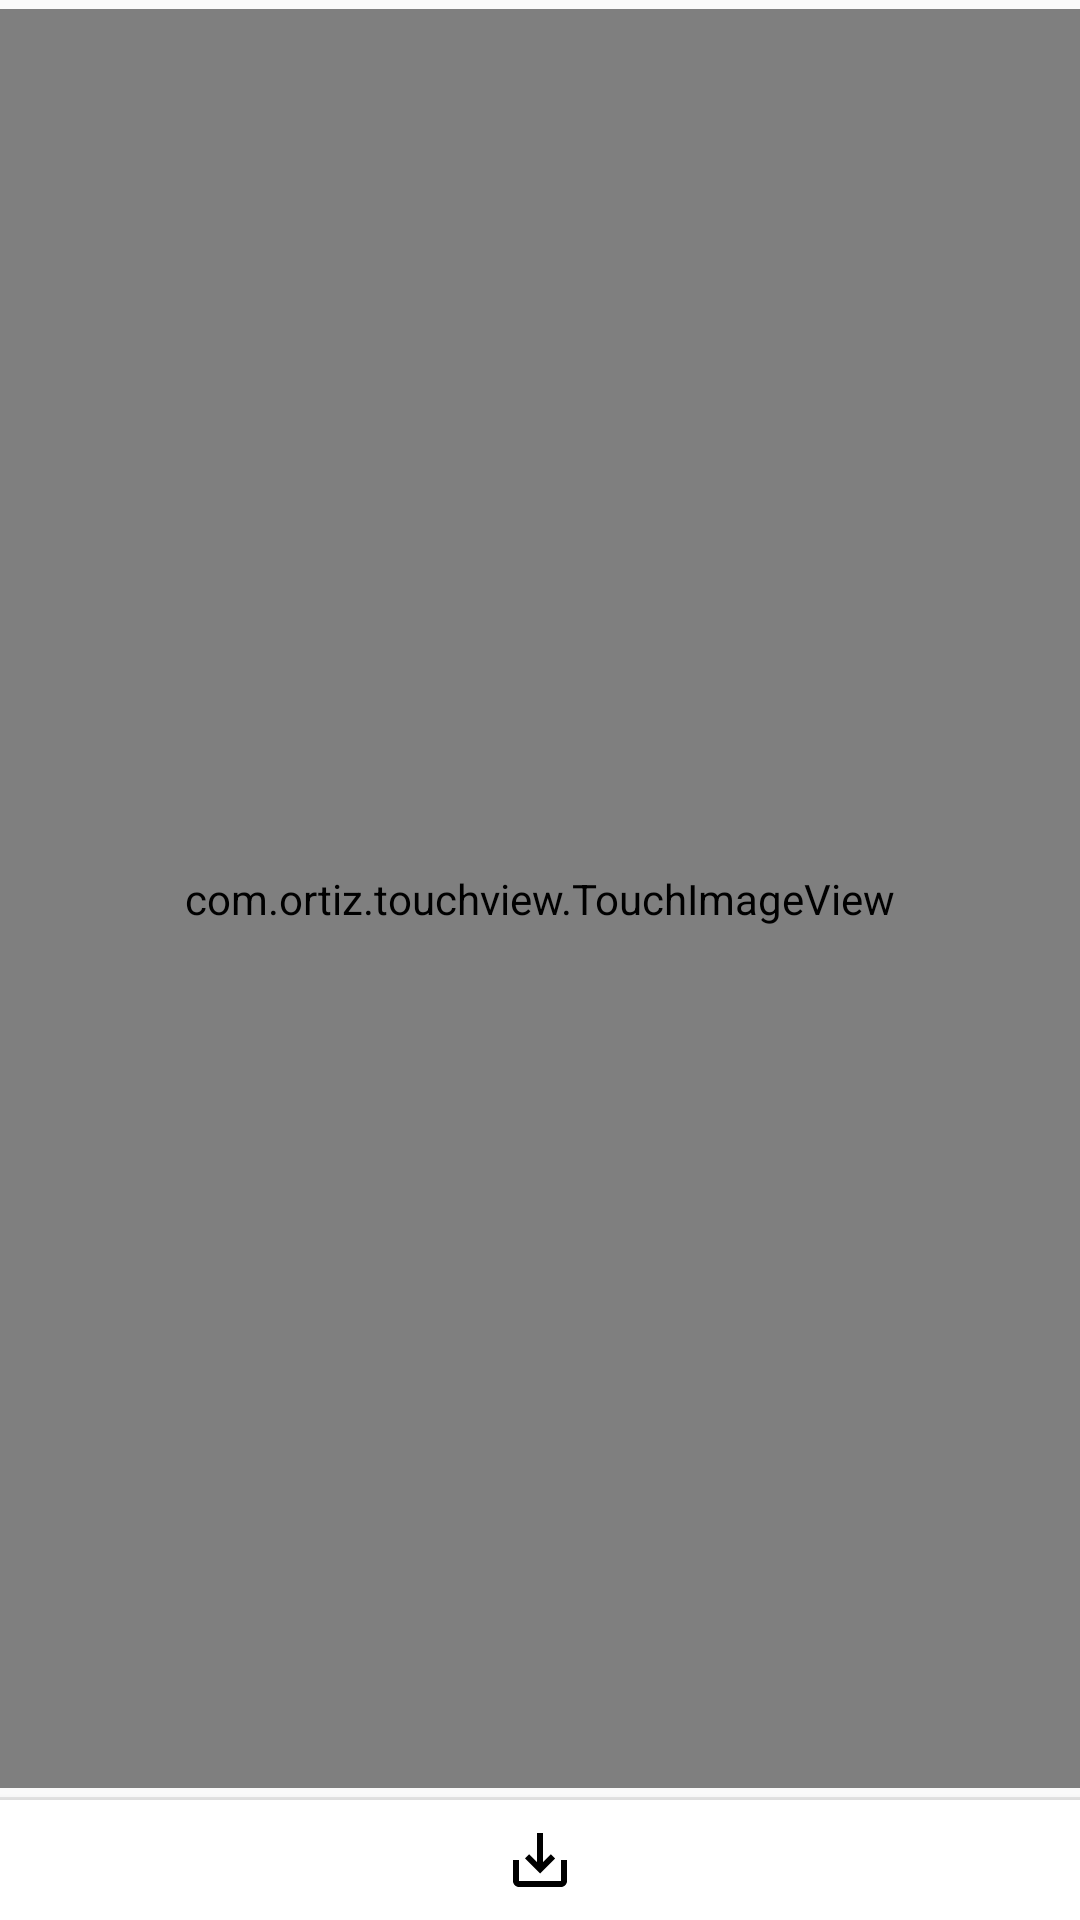

Icons on this 1080 x 1920 Android screen, each with its box as [x1, y1, x2, y2]:
download: [513, 1833, 567, 1887]
